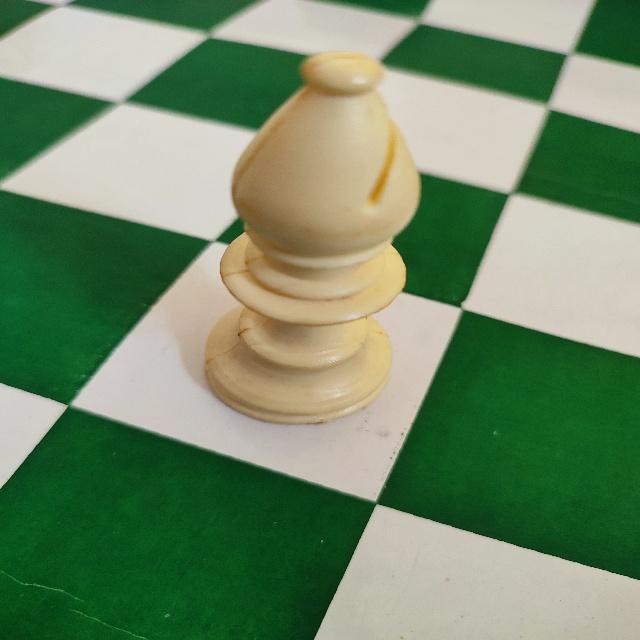Bishop: (196, 48, 425, 428)
